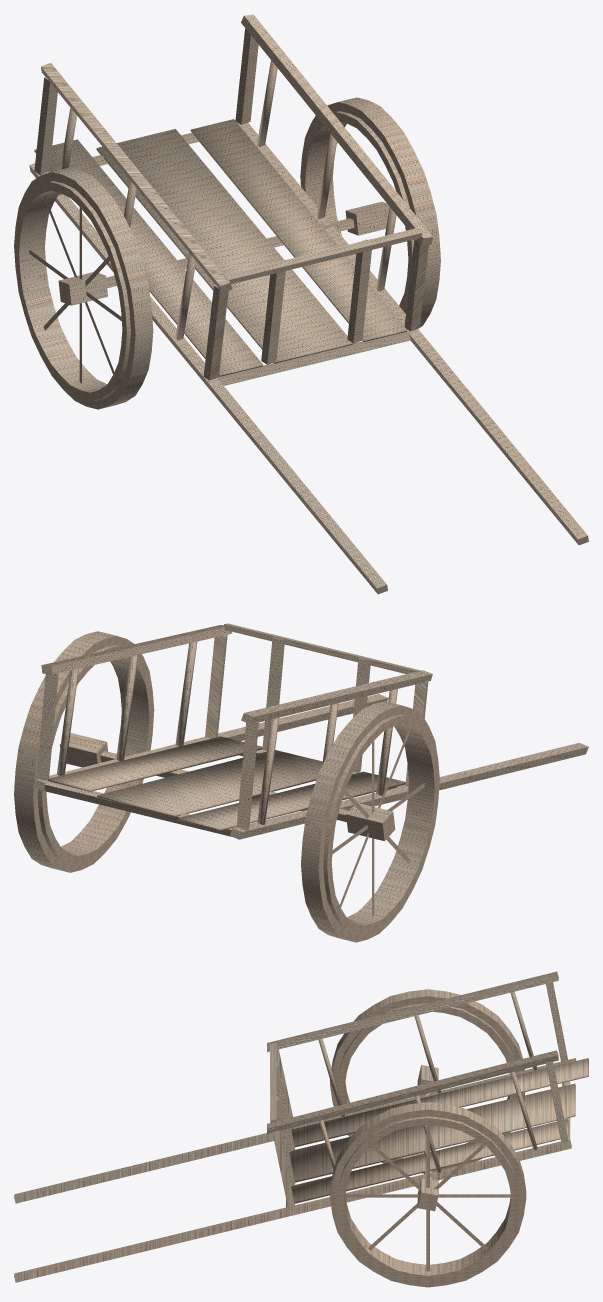
The model's file is Wagon.glb.
3 renders of one model, top to bottom at view 1: azimuth 30°, elevation 25°; view 2: azimuth 150°, elevation 25°; view 3: azimuth 270°, elevation 25°, orthographic. The views are drawn at different scales.
Parts seen in each view (by area): view 1: Cube_015, Cylinder_000, Cube_014, Cylinder_019, Cube_016, Cylinder_005, Cylinder_006, Object001, Cylinder_007, Cylinder_016, Cylinder_015, Cylinder_021 (+9 smaller); view 2: Cylinder_000, Cylinder_019, Cube_015, Cube_014, Cylinder_005, Cube_016, Cylinder_007, Object001, Cylinder_006, Cylinder_013, Cylinder_010, Cylinder_009 (+16 smaller); view 3: Cylinder_019, Cube_015, Cylinder_006, Cylinder_000, Cube_016, Cube_014, Cylinder_005, Object001, Cylinder_007, Cylinder_009, Cylinder_010, Cylinder_011 (+7 smaller).
Part boxes in pixels (box(x1,y1,x2,y2)): Cube_015: box(96, 129, 352, 363); Cylinder_000: box(14, 167, 153, 409); Cube_014: box(190, 119, 406, 342); Cylinder_019: box(300, 97, 440, 327); Cube_016: box(34, 139, 263, 376); Cylinder_005: box(29, 163, 387, 594); Cylinder_006: box(237, 122, 588, 545); Object001: box(241, 14, 433, 245); Cylinder_007: box(41, 63, 232, 292); Cylinder_016: box(223, 228, 421, 284); Cylinder_015: box(217, 332, 410, 385); Cylinder_021: box(347, 239, 371, 343); Cylinder_000: box(301, 701, 439, 942); Cylinder_019: box(14, 631, 154, 872); Cube_015: box(97, 750, 322, 816); Cube_014: box(47, 736, 262, 791); Cylinder_005: box(229, 743, 588, 839); Cube_016: box(178, 771, 405, 830); Cylinder_007: box(241, 670, 432, 724); Object001: box(41, 625, 232, 674); Cylinder_006: box(32, 694, 388, 790); Cylinder_013: box(44, 781, 236, 836); Cylinder_010: box(236, 721, 258, 830); Cylinder_009: box(36, 673, 58, 780); Cylinder_019: box(330, 1102, 526, 1287); Cube_015: box(289, 1083, 575, 1182); Cylinder_006: box(14, 1139, 571, 1282); Cylinder_000: box(330, 989, 525, 1173); Cube_016: box(291, 1058, 588, 1147); Cube_014: box(291, 1119, 568, 1203); Cylinder_005: box(14, 1058, 576, 1203); Object001: box(267, 1050, 558, 1133); Cylinder_007: box(267, 971, 558, 1052); Cylinder_009: box(546, 1061, 568, 1143); Cylinder_010: box(546, 982, 568, 1064); Cylinder_011: box(272, 1131, 295, 1210).
Size of the model in its own units: 124 by 103 by 235.
Materials: 1 (1 with a texture image).
